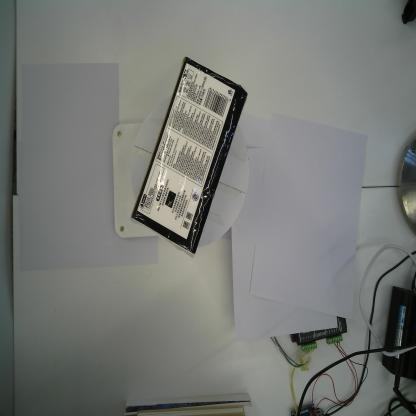Tissue: (129, 56, 248, 258)
